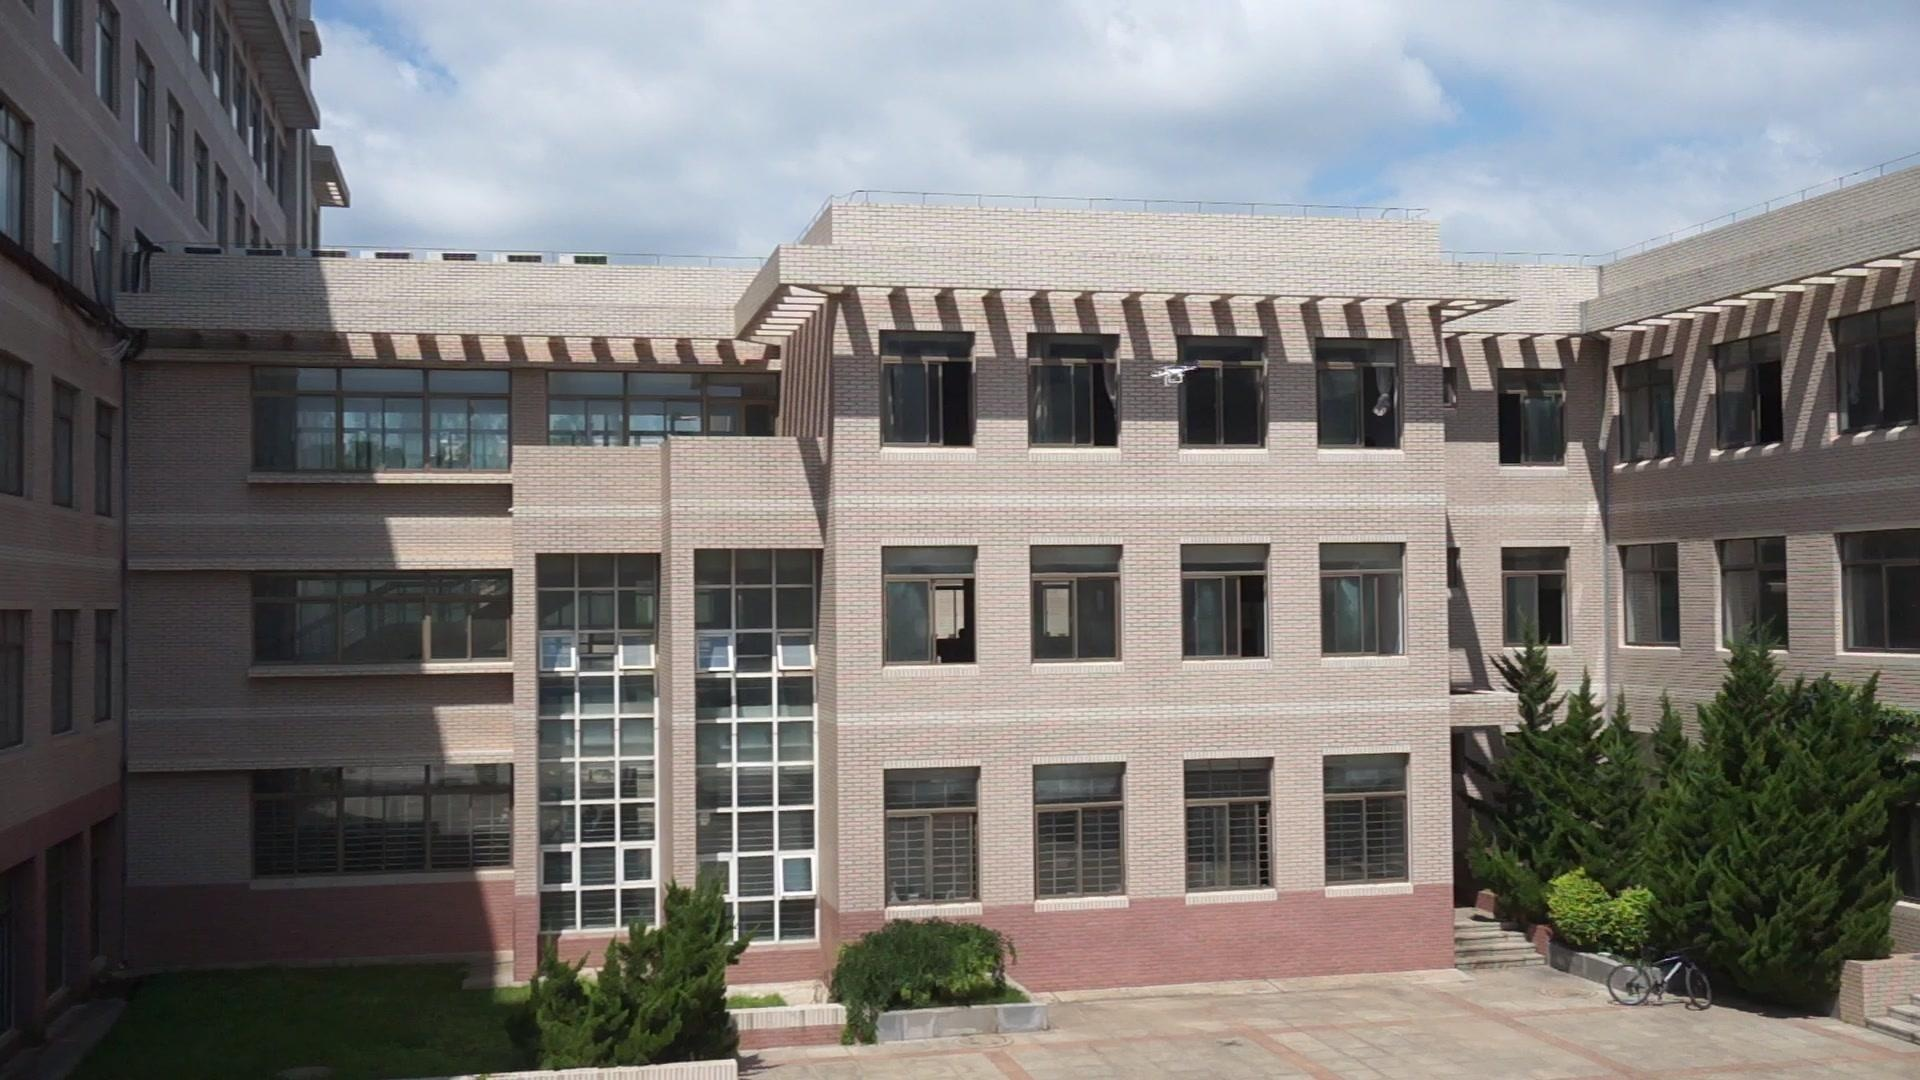UAV: (1151, 364, 1200, 388)
